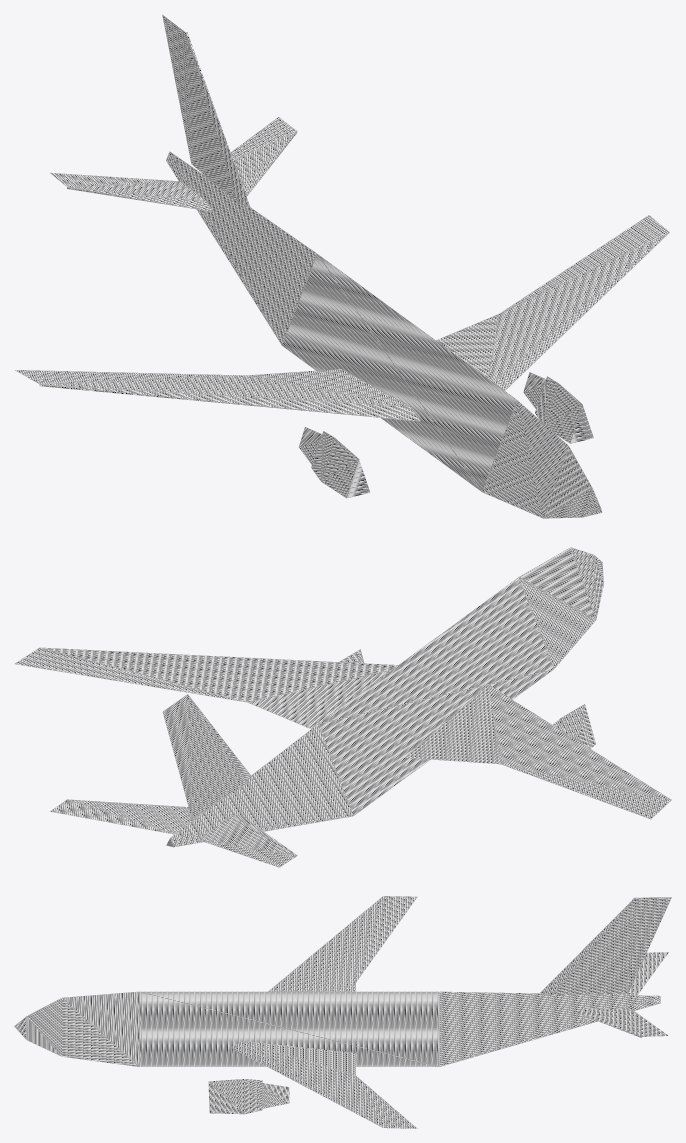
The model's file is TFS_Airbus_A300B2-B4_GE_MSFS_LOD1.gltf.
3 views of the same model, one above another, from view 1: azimuth 30°, elevation 25°; view 2: azimuth 150°, elevation 25°; view 3: azimuth 270°, elevation 25° (orthographic). The views are drawn at different scales.
Visible parts, largest first — view 1: node1; view 2: node1; view 3: node1.
Part boxes in pixels (<box>): node1: <box>15,14,669,518</box>; node1: <box>14,547,671,867</box>; node1: <box>14,896,671,1128</box>.
Bounding box in the file's own units: 44.74 × 15.36 × 53.55.
